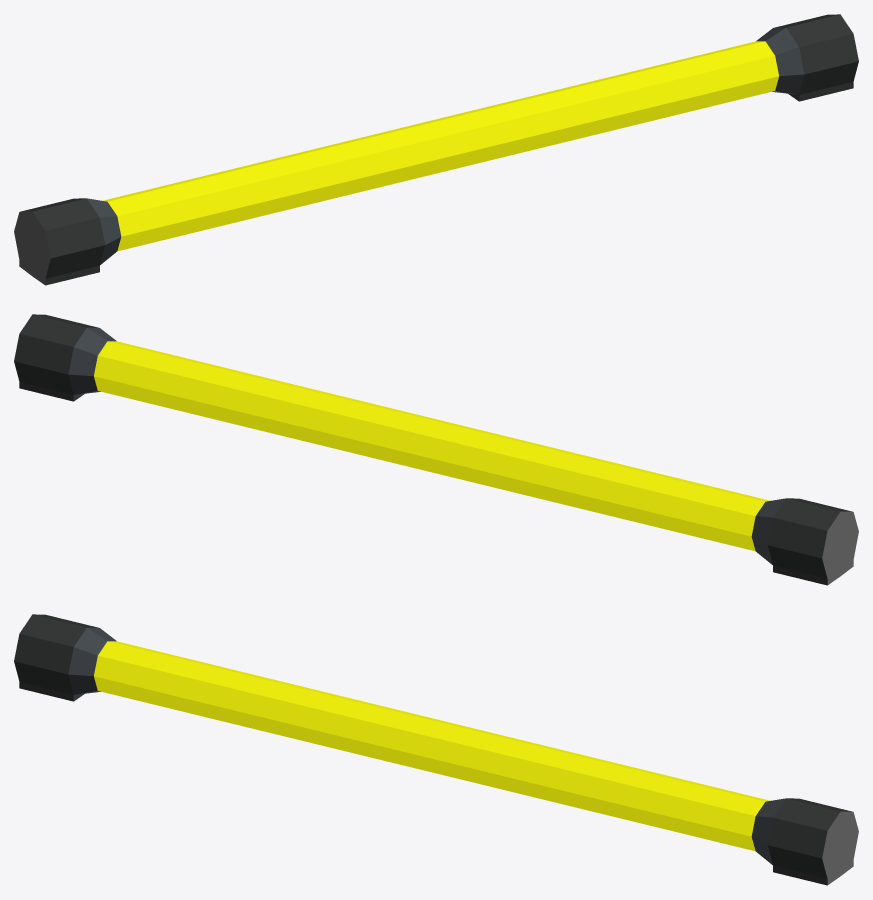
The model's file is NeonLightTube_02.glb.
The picture shows the model from 3 angles, top to bottom: view 1: azimuth 30°, elevation 25°; view 2: azimuth 150°, elevation 25°; view 3: azimuth 330°, elevation 25°; orthographic projection.
Parts seen in each view (by area): view 1: NeonLightTube_02; view 2: NeonLightTube_02; view 3: NeonLightTube_02.
Part boxes in pixels (x1,y1,x2,y2): NeonLightTube_02: (14,14,858,285); NeonLightTube_02: (14,314,858,585); NeonLightTube_02: (14,614,858,885).
Size of what is drawn, in the model's own units: 1.71 by 0.1314 by 0.1354.
Materials: 2 (2 with a texture image).
